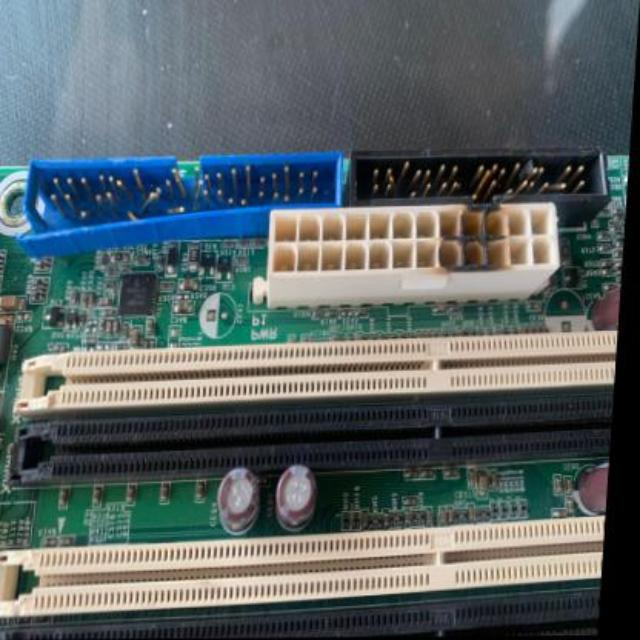PCB: (1, 142, 632, 634)
